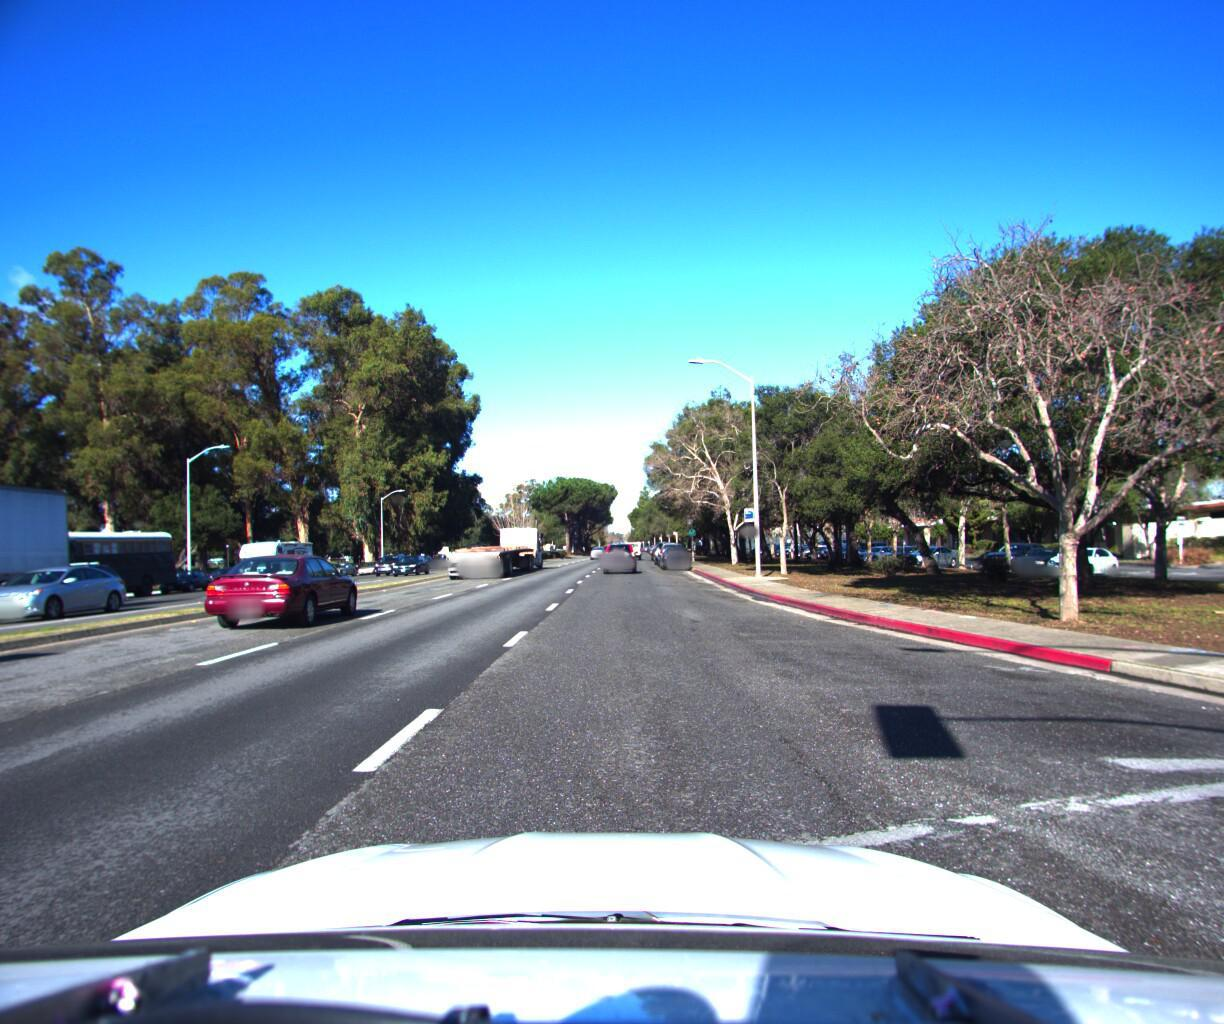bus: (0, 519, 184, 609)
car: (200, 546, 368, 634), (0, 555, 142, 626), (0, 556, 36, 621), (155, 562, 220, 592), (600, 534, 640, 573), (389, 553, 432, 578), (371, 551, 412, 575), (656, 538, 691, 564), (623, 536, 642, 555)
other_vehicle: (231, 531, 317, 584)
truck: (0, 443, 91, 683), (441, 501, 546, 586)
